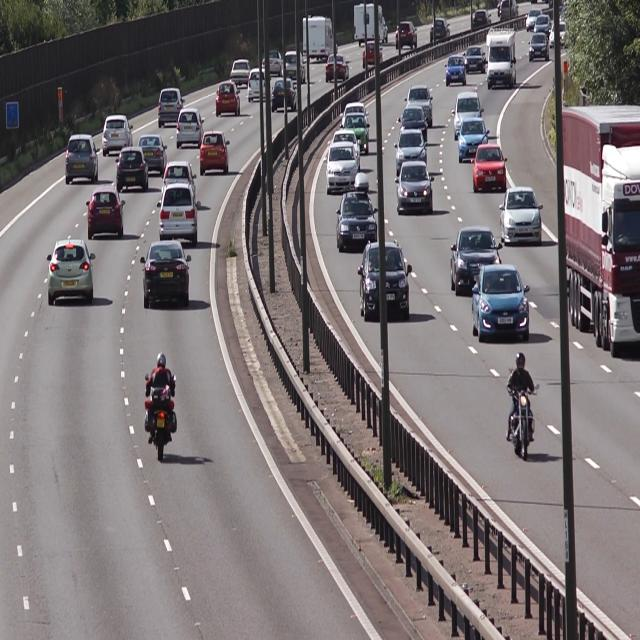Car: (556, 105, 640, 362), (470, 266, 532, 346), (358, 244, 413, 325), (44, 234, 99, 307), (139, 240, 193, 313), (336, 172, 382, 255), (451, 228, 504, 298), (83, 181, 130, 248), (499, 187, 544, 247), (158, 184, 199, 245), (393, 162, 437, 216), (65, 131, 102, 187), (472, 141, 508, 194), (488, 28, 518, 91), (323, 143, 359, 195), (394, 128, 428, 180), (116, 144, 150, 195), (456, 118, 490, 165), (454, 91, 486, 140), (200, 131, 232, 177), (396, 105, 431, 147), (403, 84, 434, 131), (104, 112, 134, 158), (176, 108, 207, 152), (158, 86, 186, 131), (139, 131, 168, 173), (215, 81, 243, 119), (272, 78, 299, 115), (444, 50, 468, 89), (326, 53, 351, 86), (527, 33, 552, 64), (248, 71, 272, 103), (230, 58, 252, 91)
